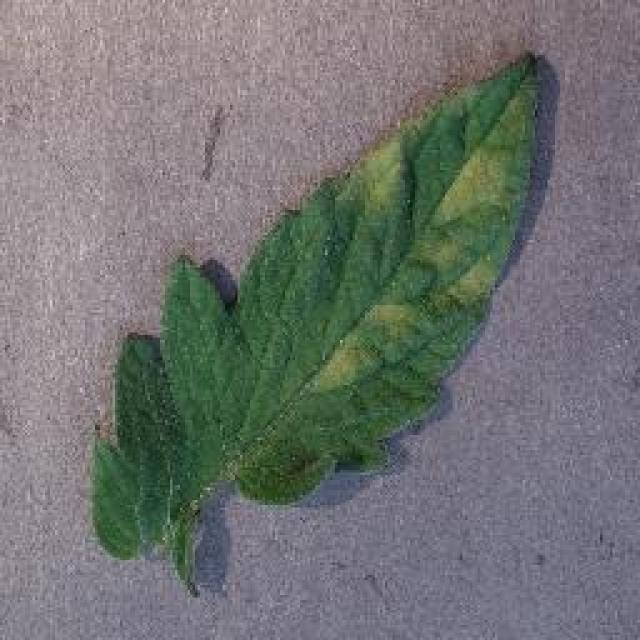Tomato___Leaf_Mold: (90, 52, 560, 607)
